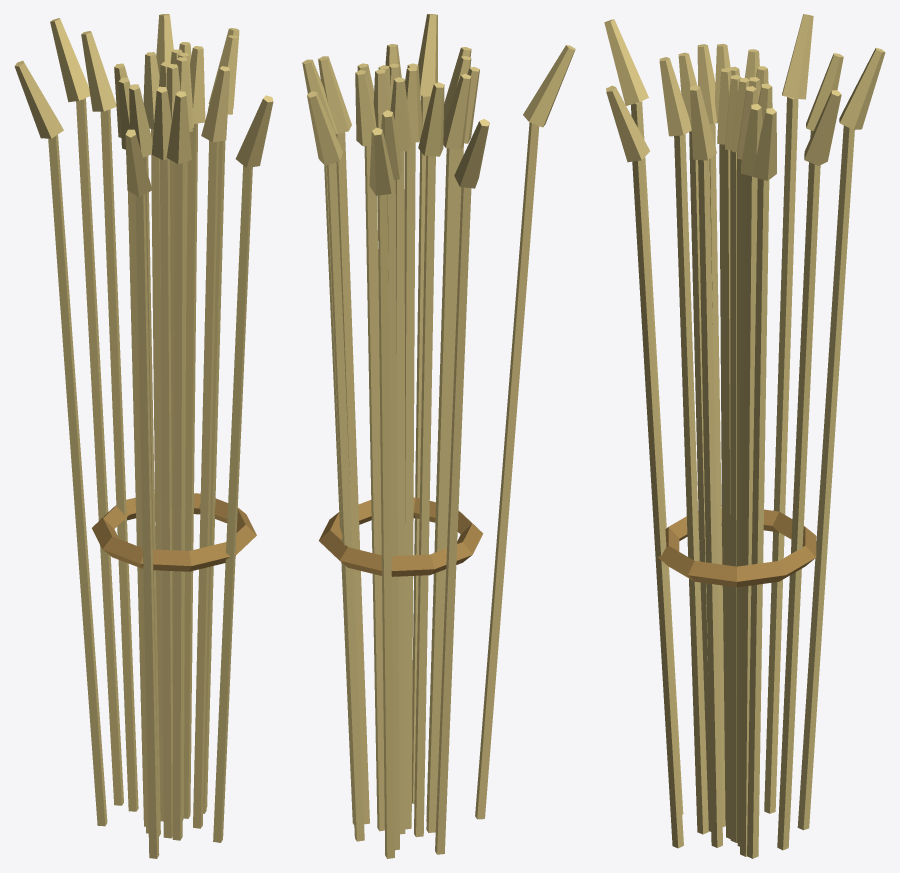
The model's file is barley_sheaf.glb.
3 views of the same model, side by side, from view 1: azimuth 30°, elevation 25°; view 2: azimuth 150°, elevation 25°; view 3: azimuth 270°, elevation 25° (orthographic).
Visible parts, largest first — view 1: sheaf; view 2: sheaf; view 3: sheaf.
Part boxes in pixels (x1,y1,x2,y2): sheaf: (14,14,273,858); sheaf: (302,14,575,858); sheaf: (604,14,885,858).
Size of the model in its own units: 0.2479 by 0.8827 by 0.293.
